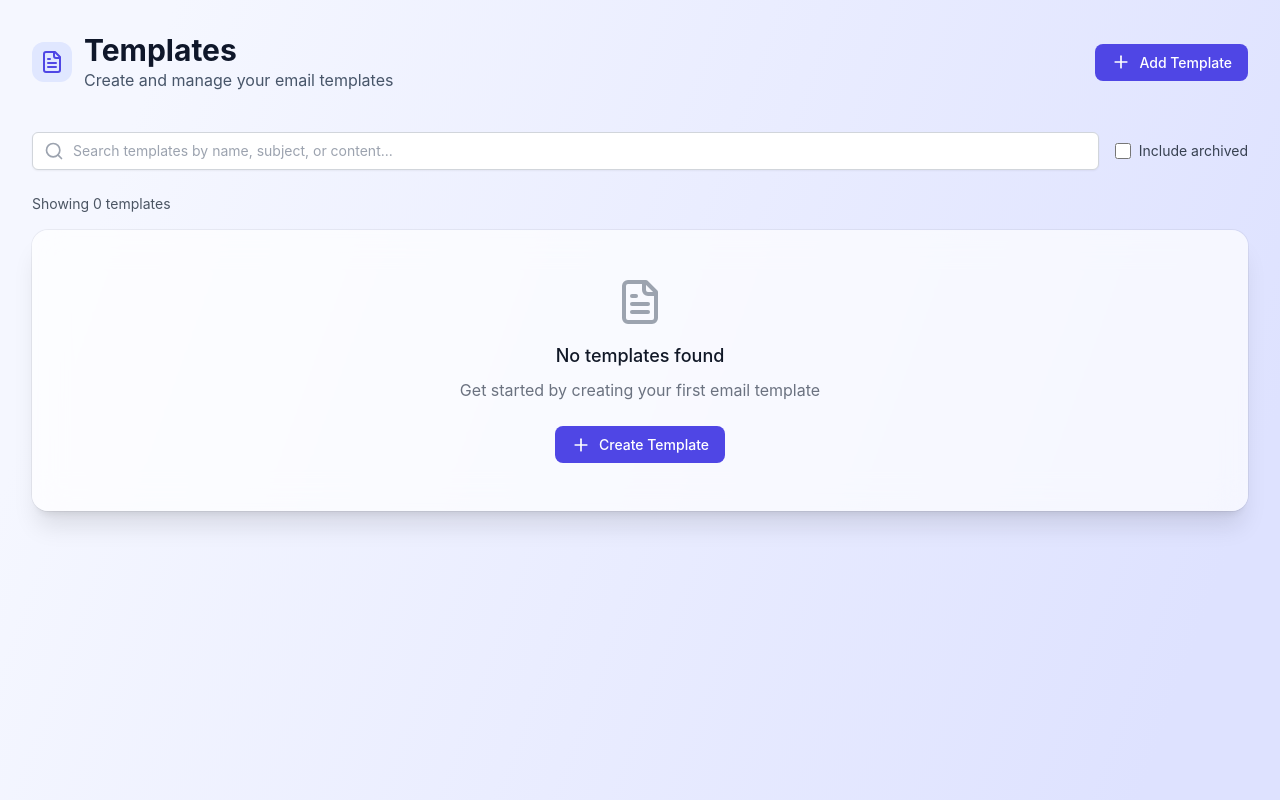
it: TemplatesPage › Empty State › should show search-specific empty state
The width and height of the screenshot is (1280, 800).
Type "nonexistent" into the field with placeholder "Search templates by name, subject, or content..." at (565, 151), box [32,132,1099,170]
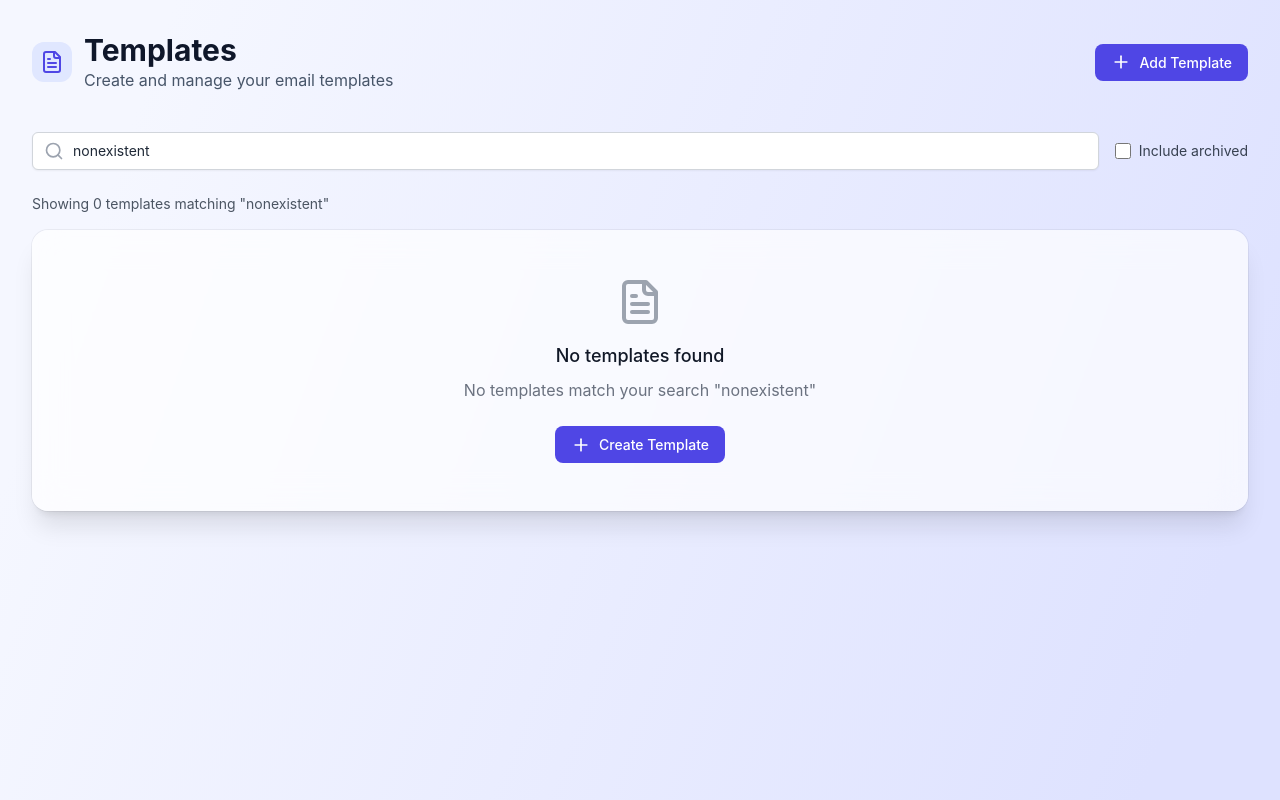
Result: the text "No templates match your search \"nonexistent\"" is shown at [464,380,816,400]
